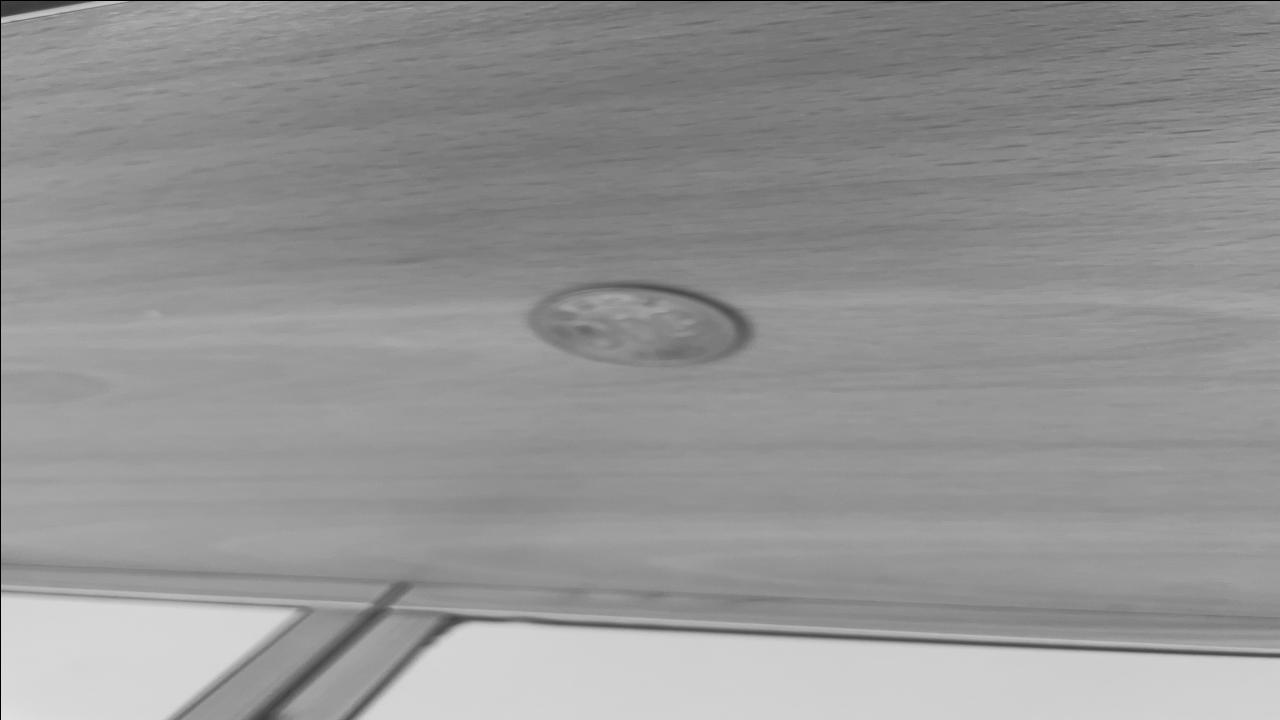coin: (524, 283, 748, 367)
